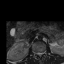CCS_normal: (39, 50, 41, 59)
LFS_normal: (43, 49, 45, 55)
LLS_normal: (41, 49, 43, 57)
RFS_normal: (35, 49, 37, 56)
RLS_normal: (37, 49, 39, 57)
